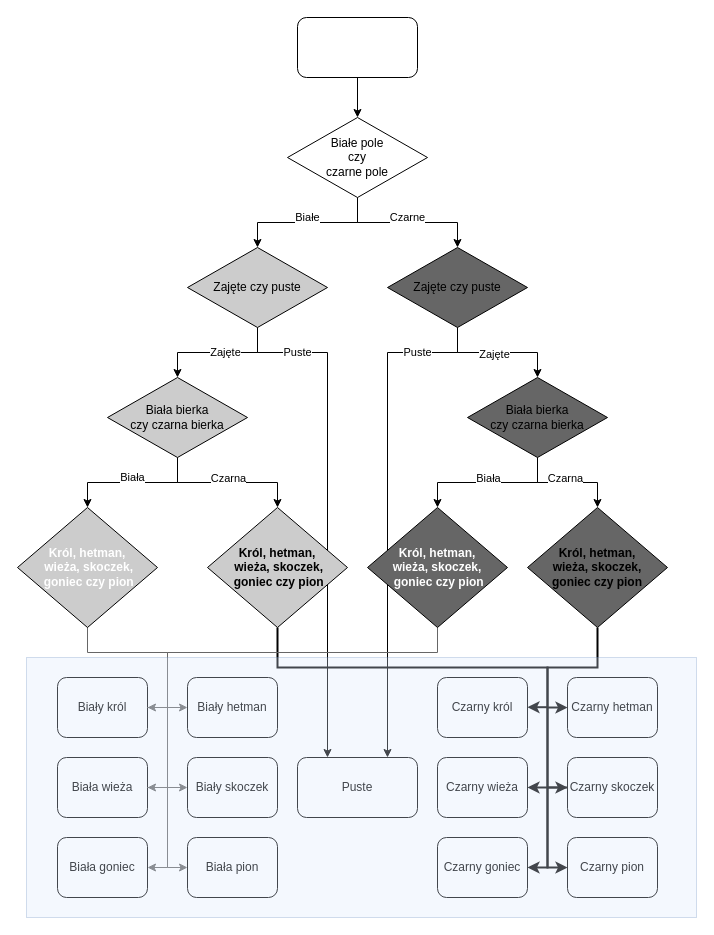
Image size: 714x935. Some labels were removed from this diagram. Each missing label, with the centre of its shape:
13 możliwych klas: (x=361, y=787)
Bitmapa 32x32 RGB: (x=357, y=47)
